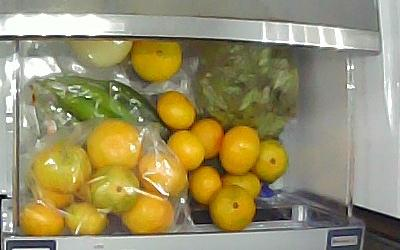tangerine: (207, 185, 257, 232), (131, 42, 185, 81), (222, 126, 259, 176), (157, 90, 196, 132), (254, 140, 288, 182), (168, 130, 203, 170), (190, 168, 224, 206), (194, 118, 223, 161), (223, 171, 261, 198)
tangerine_vinyl: (37, 142, 91, 191), (88, 122, 143, 170), (139, 149, 187, 200), (122, 193, 173, 235), (90, 167, 138, 211), (30, 166, 76, 209), (22, 202, 67, 238), (65, 201, 110, 236)
